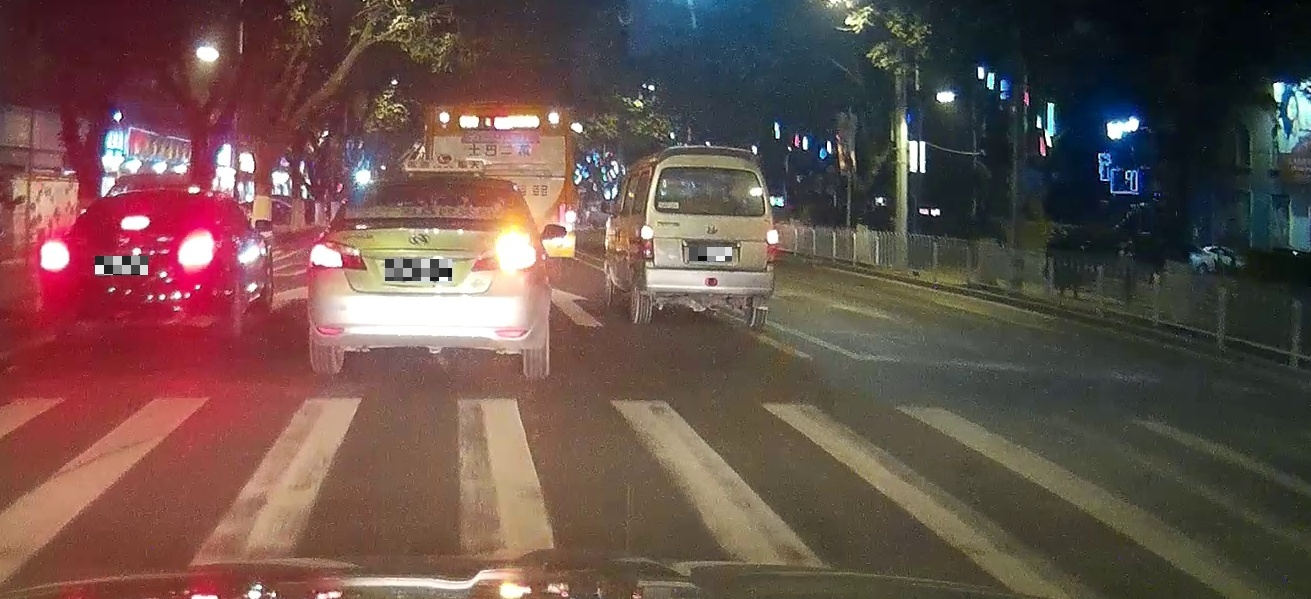L_light: (309, 240, 368, 270), (41, 241, 69, 272), (639, 224, 655, 261)
R_light: (470, 239, 540, 270), (177, 237, 215, 269), (766, 228, 778, 261)
T_light: (121, 215, 150, 230), (420, 182, 450, 188), (704, 167, 728, 172)
night-brake: (40, 187, 234, 349)
night-no: (635, 145, 778, 326)
night-right: (306, 175, 550, 376)
plate_1: (95, 256, 148, 275)
plate_2: (385, 259, 452, 281)
plate_3: (689, 247, 732, 261)
